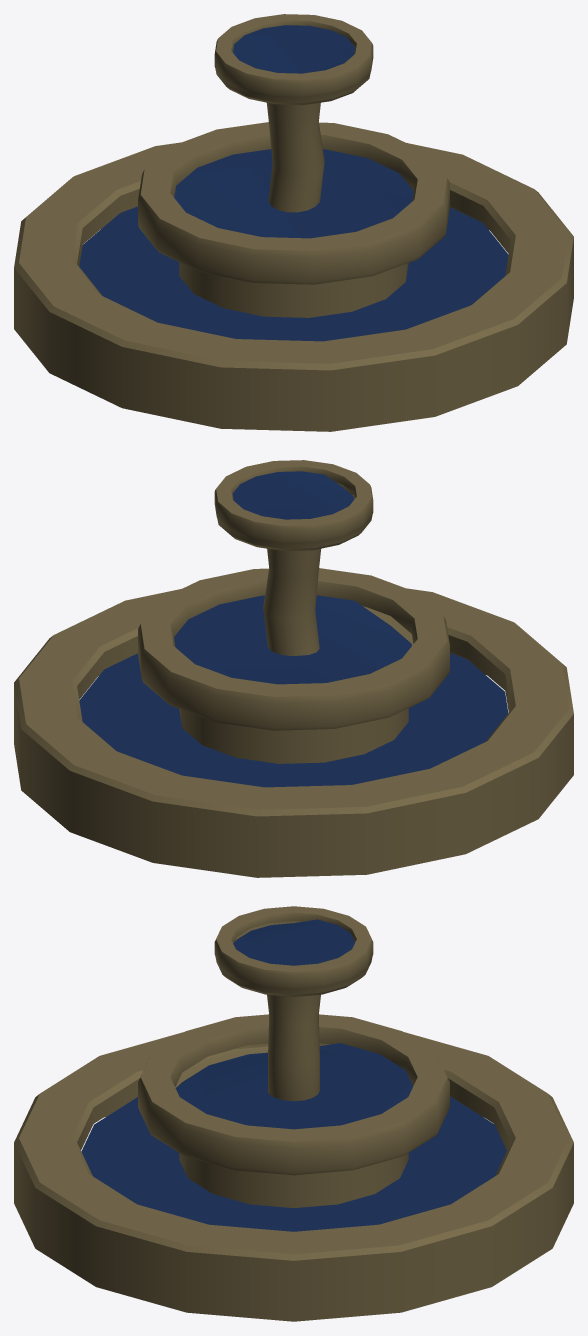
File: Fountain.FBX
3 renders of one model, top to bottom at view 1: azimuth 30°, elevation 25°; view 2: azimuth 150°, elevation 25°; view 3: azimuth 270°, elevation 25°, orthographic.
Parts seen in each view (by area): view 1: Fountain; view 2: Fountain; view 3: Fountain.
Boxes of the visible parts, x1,y1,x2,y2 form: Fountain: (14, 14, 573, 431); Fountain: (14, 460, 573, 877); Fountain: (14, 906, 573, 1321).
Size of the model in its own units: 179 by 93.06 by 179.
